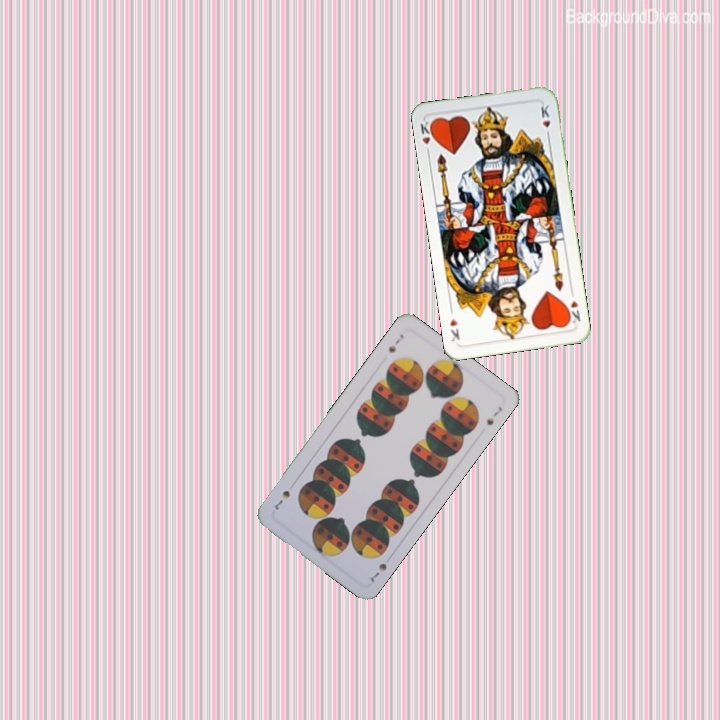HK: (416, 116, 437, 158), (563, 287, 583, 326)
S7: (364, 559, 389, 585), (384, 330, 406, 355)
